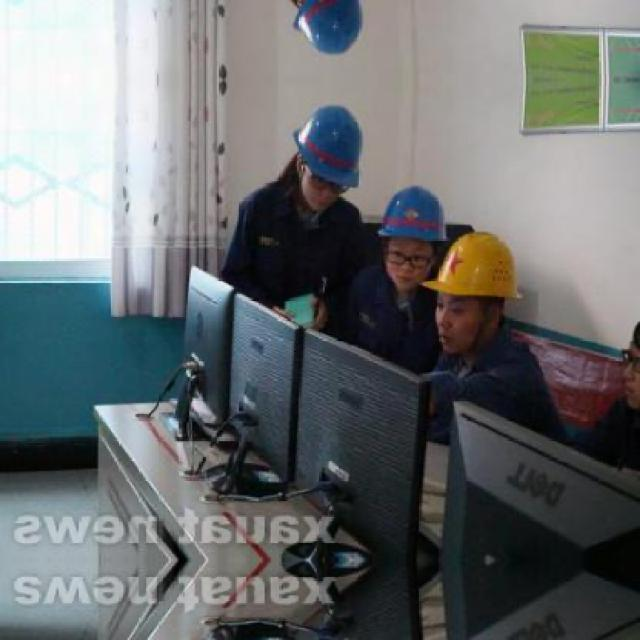helmet: (428, 226, 523, 357), (289, 94, 371, 217), (372, 178, 452, 302), (290, 0, 372, 65)
